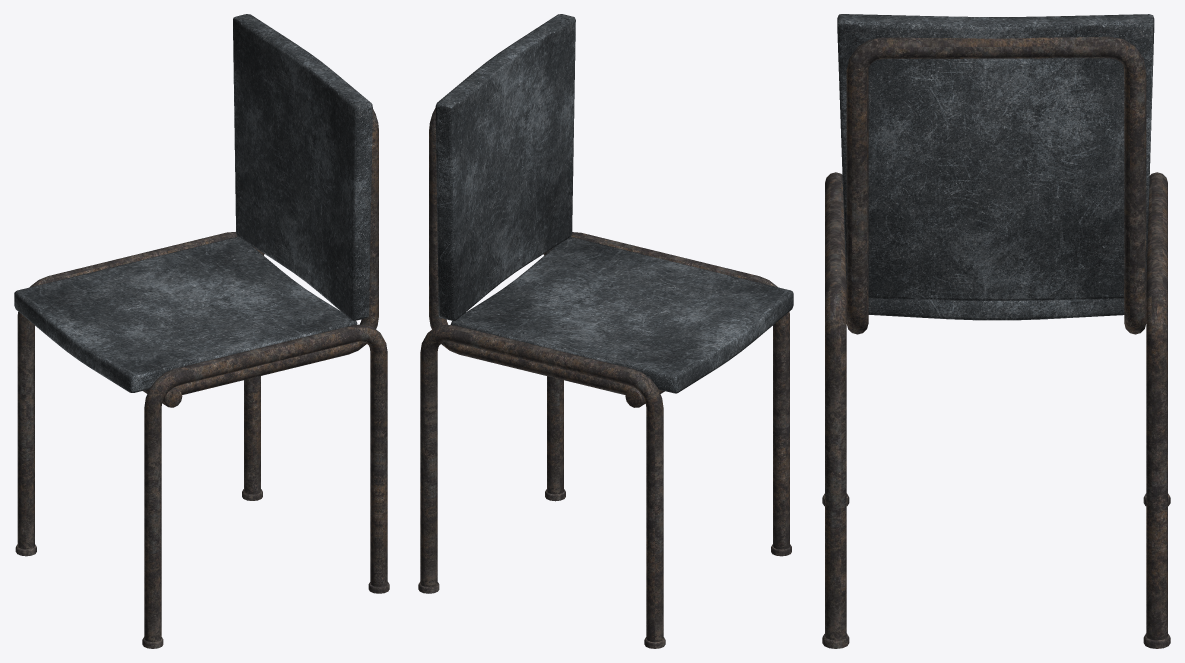
Rendered from Chair.FBX.
3 renders of one model, left to right at view 1: azimuth 30°, elevation 25°; view 2: azimuth 150°, elevation 25°; view 3: azimuth 270°, elevation 25°, orthographic. The views are drawn at different scales.
Visible parts, largest first — view 1: Box046; view 2: Box046; view 3: Box046.
Boxes of the visible parts, x1,y1,x2,y2 form: Box046: (14, 14, 389, 648); Box046: (418, 14, 793, 648); Box046: (822, 14, 1170, 648).
Bounding box in the file's own units: 150 × 276 × 141.
